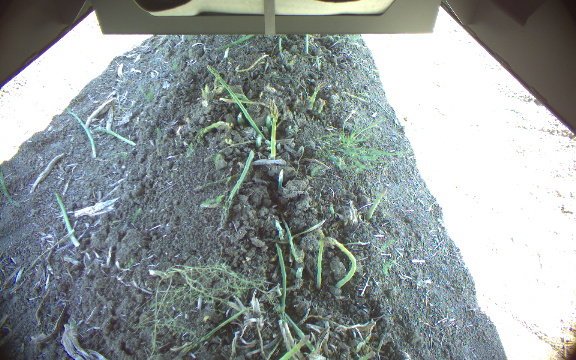aspa: (205, 63, 266, 142), (325, 237, 357, 289), (271, 334, 310, 360), (314, 229, 325, 291), (268, 98, 279, 158), (307, 87, 320, 107), (355, 350, 376, 360), (303, 33, 310, 55)
